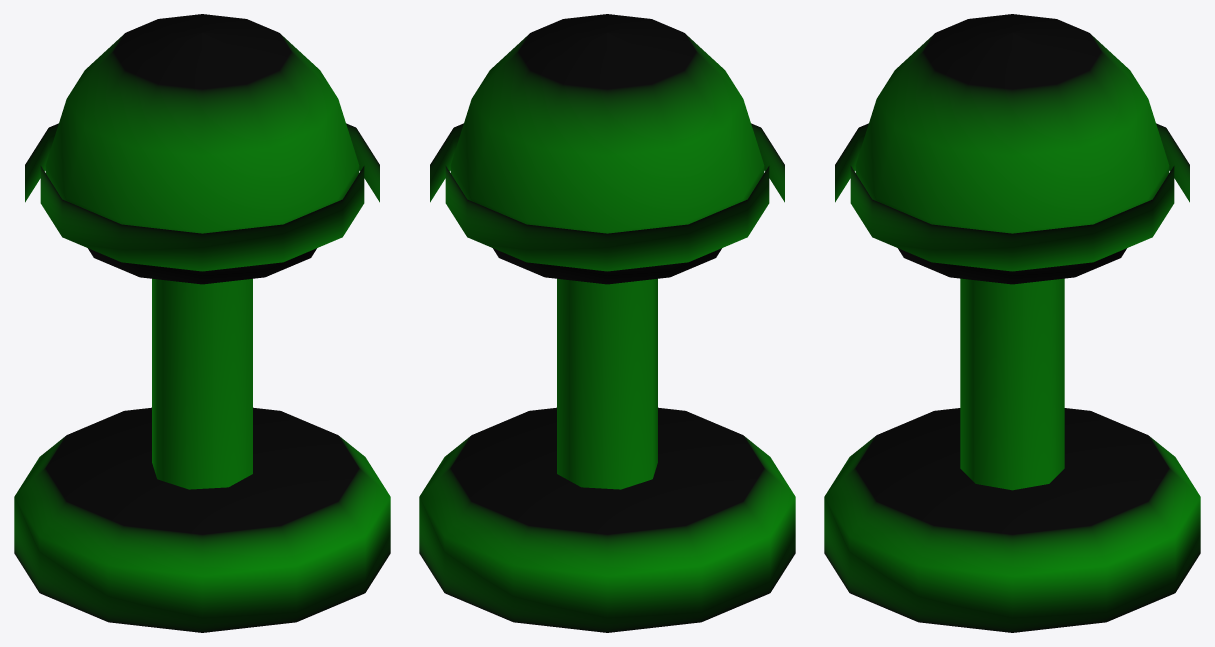
The model's file is bluebeaconlight.glb.
3 renders of one model, left to right at view 1: azimuth 30°, elevation 25°; view 2: azimuth 150°, elevation 25°; view 3: azimuth 270°, elevation 25°, orthographic.
Visible parts, largest first — view 1: lod0; view 2: lod0; view 3: lod0.
Part boxes in pixels (box(x1,y1,x2,y2)): lod0: box(14, 14, 390, 632); lod0: box(419, 14, 795, 632); lod0: box(824, 14, 1200, 632).
Size of what is drawn, in the model's own units: 0.72 by 1.1 by 0.72.
